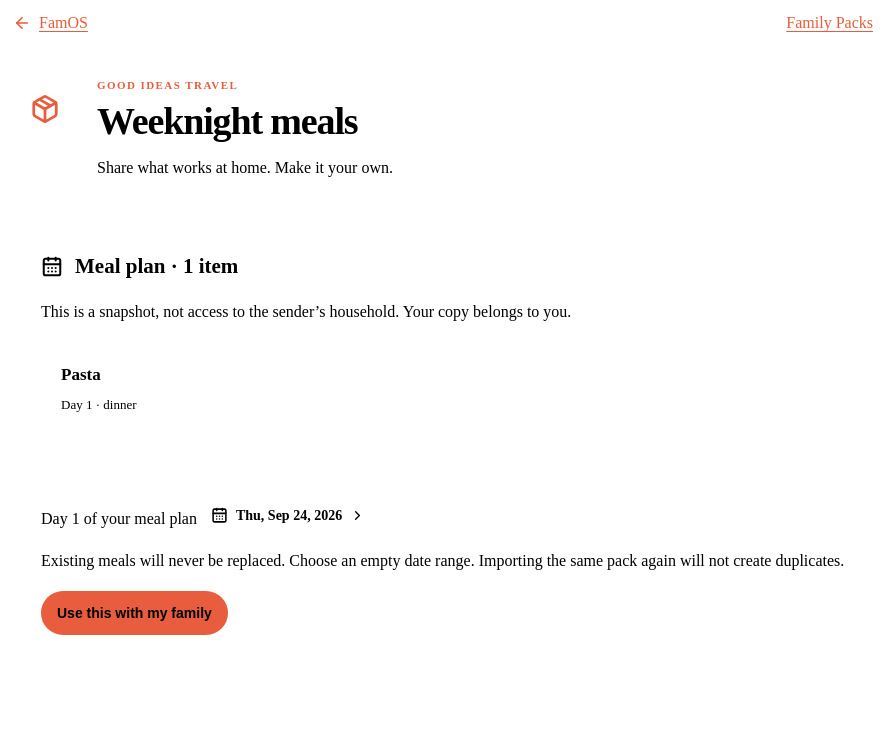
Scenario: meal import sends an explicit date and keeps the preview after a conflict
The width and height of the screenshot is (890, 734).
Click the button "Use this with my family".
click(134, 613)  # box [41,591,228,635]
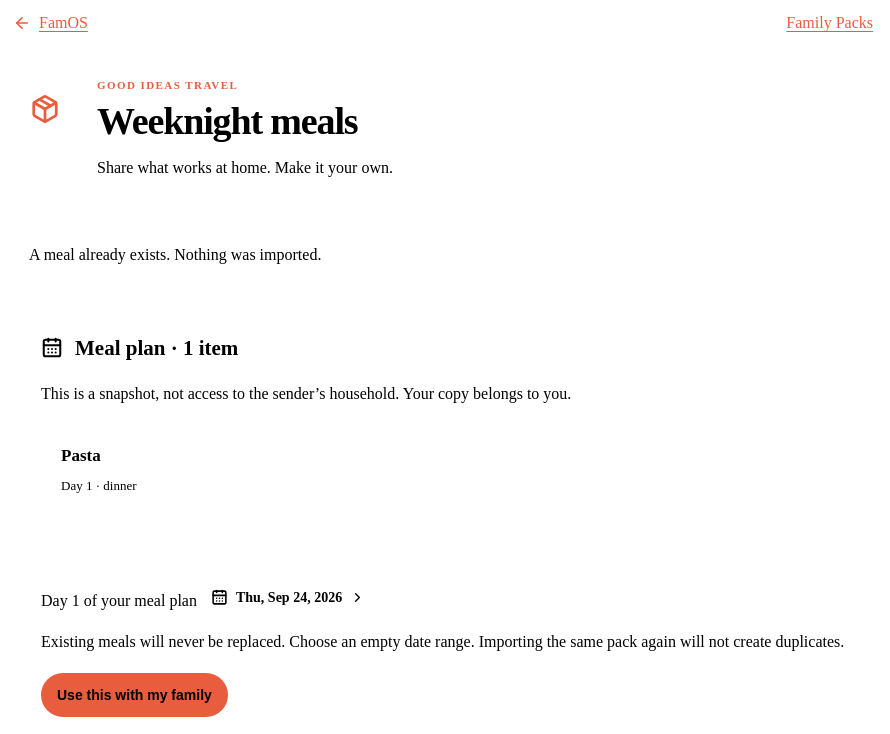
Expected: the heading "Pasta" is shown, [61,446,101,466]
Expected: the message "A meal already exists. Nothing was imported." is shown, [29,246,321,263]
